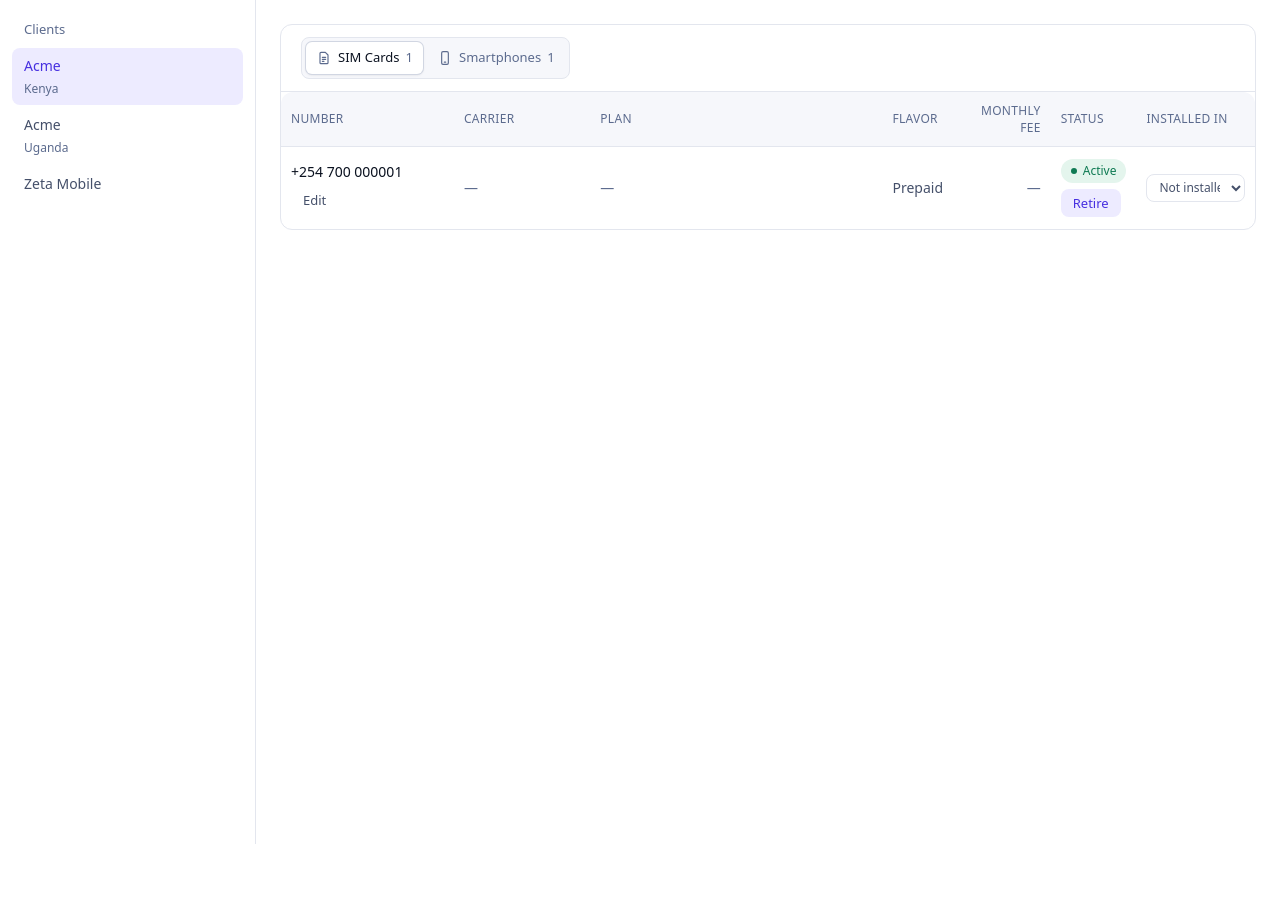
Test case: AgentFleetView › a pick swaps the Fleet with no request and writes ?contract=
Click the link "Zeta Mobile" at {"x": 63, "y": 183}, box [24,174,101,193]
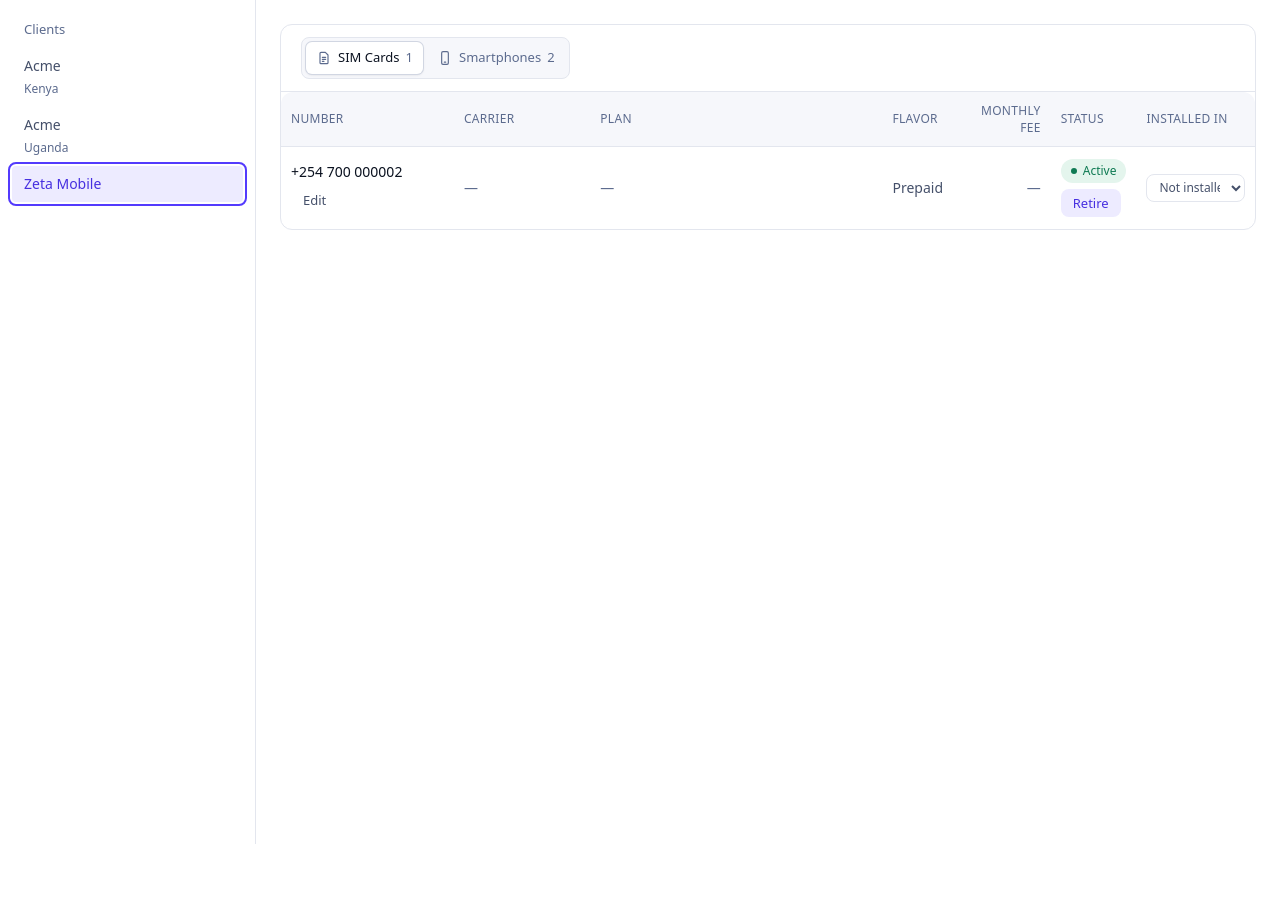
Check: the text "+254 700 000002" is shown, box [291,162,402,182]
Check: the text "+254 700 000001" is gone
